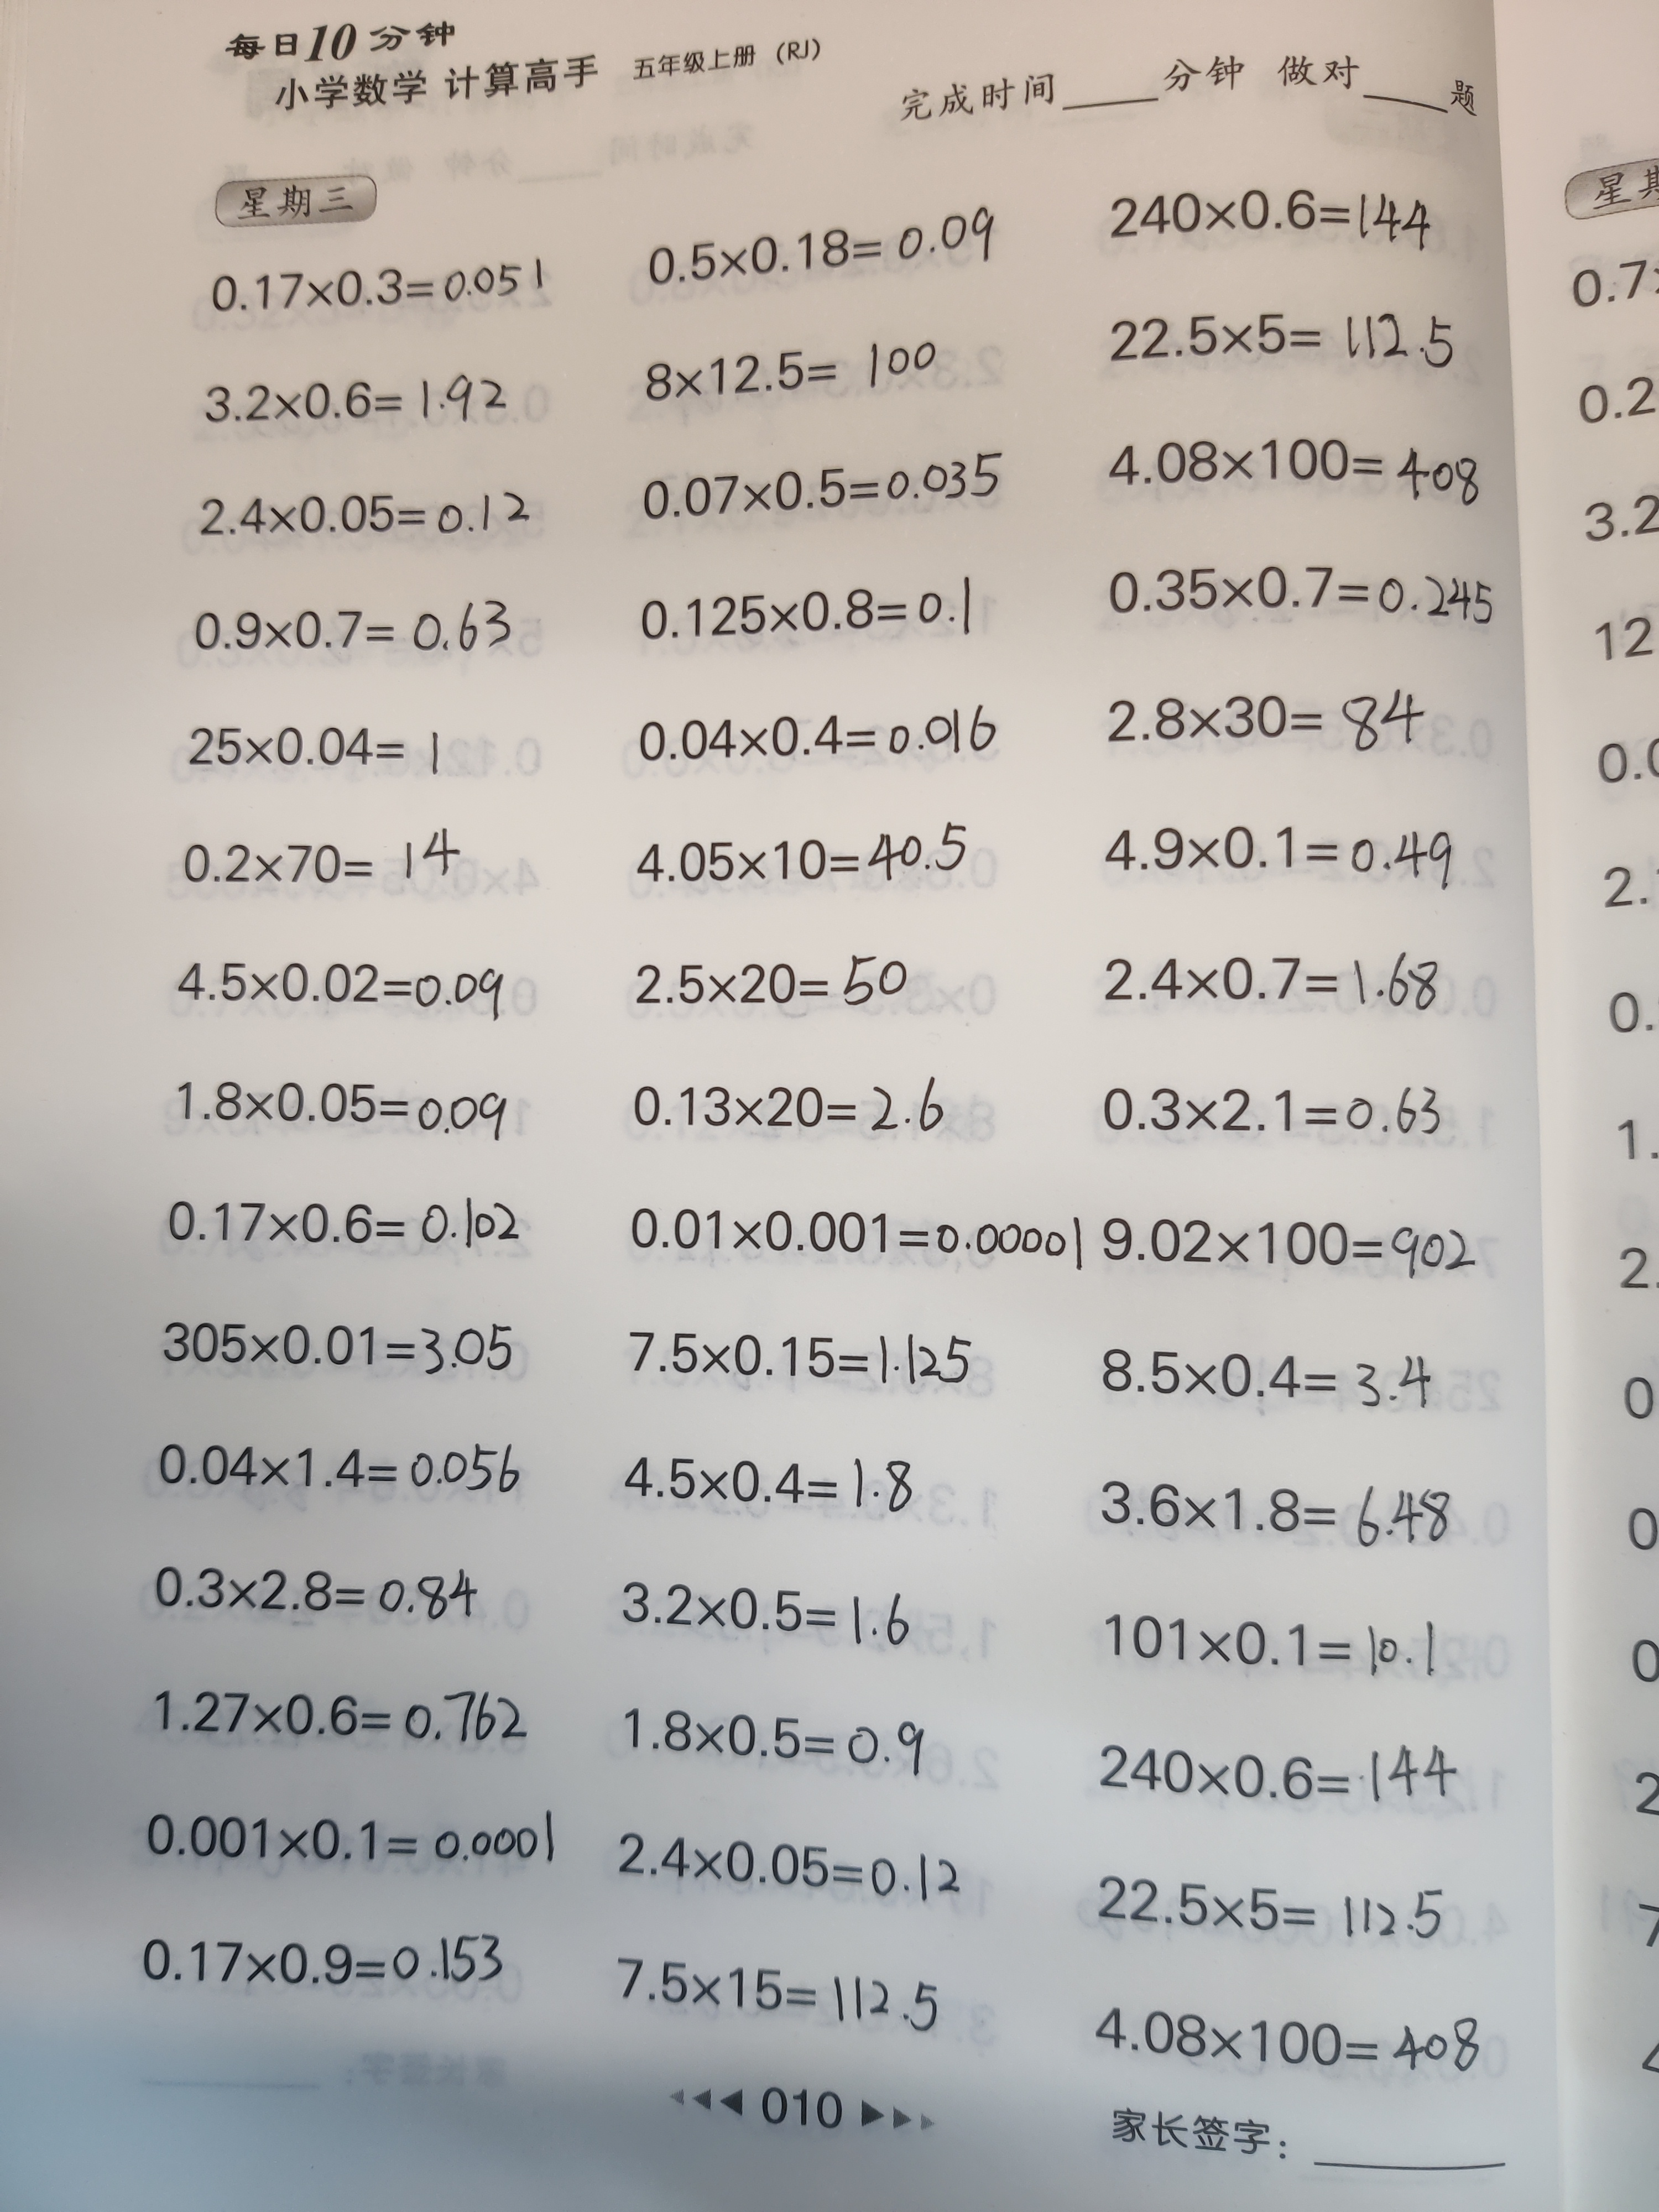equation: (617, 1188, 1093, 1289), (1082, 1846, 1455, 1973), (1082, 930, 1459, 1043), (1094, 423, 1481, 531), (145, 1176, 533, 1282), (1082, 803, 1469, 909), (131, 1796, 566, 1888), (1086, 1724, 1460, 1831), (610, 808, 978, 916), (157, 930, 512, 1038), (1082, 1993, 1486, 2087), (1089, 550, 1497, 643), (606, 449, 1012, 542), (132, 1421, 530, 1515), (598, 1822, 972, 1921), (179, 590, 516, 700), (603, 1942, 939, 2052), (1094, 665, 1424, 772), (1093, 1599, 1453, 1695), (1100, 165, 1441, 266), (193, 334, 518, 441), (1086, 1465, 1466, 1555), (605, 1688, 939, 1791), (1101, 1200, 1486, 1289), (617, 1428, 922, 1538), (617, 1310, 972, 1404), (136, 1916, 511, 2005), (138, 1674, 535, 1757), (143, 1313, 533, 1397), (1080, 1068, 1452, 1155), (615, 568, 983, 653), (603, 1569, 934, 1663), (622, 322, 950, 416), (638, 207, 1012, 289), (136, 1541, 481, 1630), (1082, 1341, 1455, 1423), (619, 700, 1009, 777), (173, 1073, 518, 1157), (1098, 308, 1469, 385), (617, 1061, 950, 1146), (166, 822, 460, 916), (617, 942, 920, 1033), (176, 479, 540, 550), (186, 251, 563, 312), (179, 714, 451, 798)
